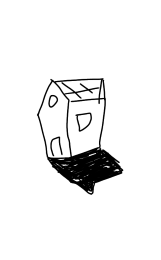door: (46, 135, 70, 162)
open_window: (72, 109, 95, 137)
roof: (31, 77, 110, 106)
shadow: (43, 147, 134, 198)
small_house: (1, 1, 161, 260)
wall: (63, 97, 108, 155)
